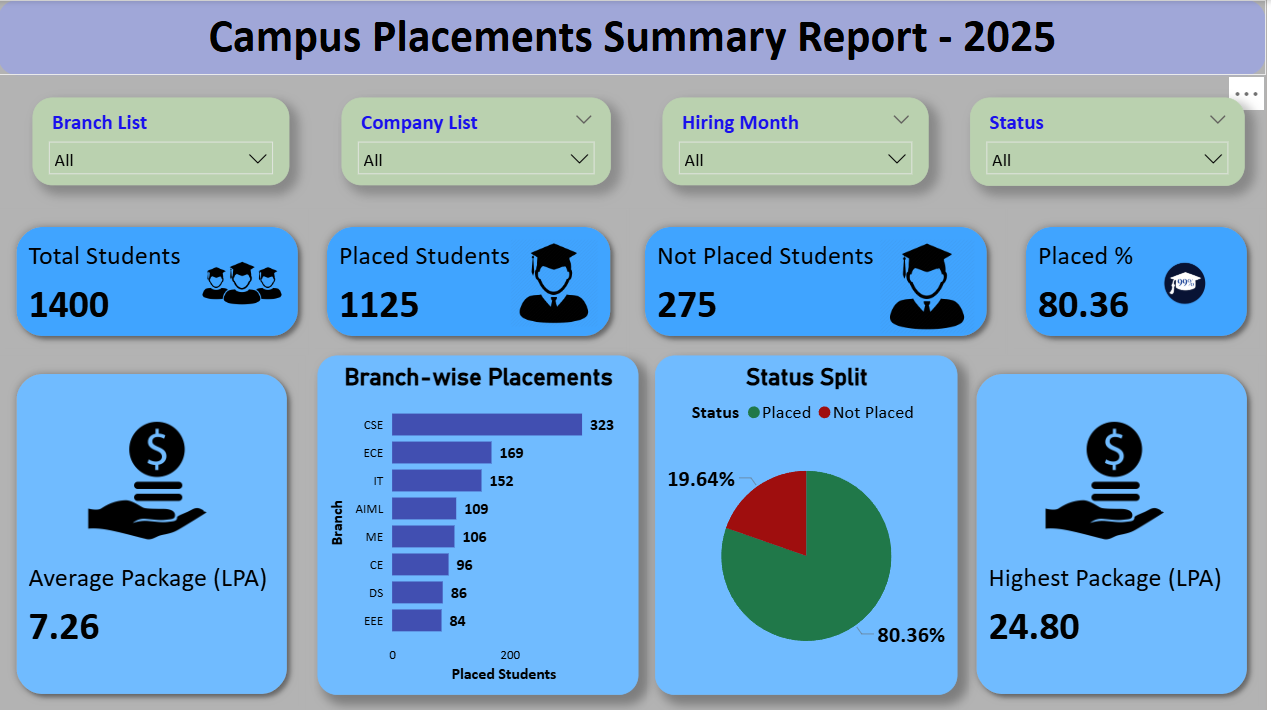

What the dashboard file says about the page in this screenshot:
{"tool":"powerbi","page":{"name":"Page 1","canvas":[1280,720],"ordinal":0},"visuals":[{"type":"textbox","title":"Campus Placements Summary Report - 2025","box":[0,0,1279.6,75.9],"z":0},{"type":"slicer","fields":{"Values":["Sheet1.Branch"]},"box":[35.2,98.1,259.3,88.9],"z":1000},{"type":"slicer","fields":{"Values":["Sheet1.Company"]},"box":[346.3,98.1,272.2,88.9],"z":2000},{"type":"slicer","fields":{"Values":["Sheet1.Hiring Month"]},"box":[670.4,98.1,268.5,88.9],"z":3000},{"type":"slicer","fields":{"Values":["Sheet1.Status"]},"box":[981,98.3,277.6,89.7],"z":4000},{"type":"cardVisual","fields":{"Data":["Sheet1.Total Students"]},"box":[0,211.1,322.2,148.1],"z":5000},{"type":"cardVisual","fields":{"Data":["Sheet1.Placed %"]},"box":[1018.5,211.1,261.1,148.1],"z":6000},{"type":"cardVisual","fields":{"Data":["Sheet1.Not Placed Students"]},"box":[635.2,211.1,383.3,148.1],"z":7000},{"type":"cardVisual","fields":{"Data":["Sheet1.Placed Students"]},"box":[313,211.1,324.1,148.1],"z":8000},{"type":"cardVisual","fields":{"Data":["Sheet1.Average Package (LPA)"]},"box":[0,359.3,311.1,361.1],"z":9000},{"type":"cardVisual","fields":{"Data":["Sheet1.Highest Package (LPA)"]},"box":[968.5,359.3,311.1,361.1],"z":10000},{"type":"barChart","title":"Branch-wise Placements","fields":{"Category":["Sheet1.Branch"],"Y":["Sum(Sheet1.Placed Students 1)"]},"box":[322.2,359.3,324.1,342.6],"z":11000},{"type":"pieChart","title":"Status Split","fields":{"Category":["Sheet1.Status"],"Y":["Sheet1.Total"]},"box":[663,359.3,305.6,342.6],"z":12000}]}

Visuals, with their boxes in screenshot pixels (x1, y1, x2, y2), scaled from the page's 1280x720 canvas onto the 1271x710 screenshot:
"Campus Placements Summary Report - 2025" textbox: {"left": 0, "top": 0, "right": 1270, "bottom": 75}
slicer - Sheet1.Branch: {"left": 35, "top": 97, "right": 292, "bottom": 184}
slicer - Sheet1.Company: {"left": 344, "top": 97, "right": 614, "bottom": 184}
slicer - Sheet1.Hiring Month: {"left": 666, "top": 97, "right": 932, "bottom": 184}
slicer - Sheet1.Status: {"left": 974, "top": 97, "right": 1250, "bottom": 185}
cardVisual - Sheet1.Total Students: {"left": 0, "top": 208, "right": 320, "bottom": 354}
cardVisual - Sheet1.Placed %: {"left": 1011, "top": 208, "right": 1270, "bottom": 354}
cardVisual - Sheet1.Not Placed Students: {"left": 631, "top": 208, "right": 1011, "bottom": 354}
cardVisual - Sheet1.Placed Students: {"left": 311, "top": 208, "right": 633, "bottom": 354}
cardVisual - Sheet1.Average Package (LPA): {"left": 0, "top": 354, "right": 309, "bottom": 709}
cardVisual - Sheet1.Highest Package (LPA): {"left": 962, "top": 354, "right": 1270, "bottom": 709}
"Branch-wise Placements" barChart: {"left": 320, "top": 354, "right": 642, "bottom": 692}
"Status Split" pieChart: {"left": 658, "top": 354, "right": 962, "bottom": 692}
